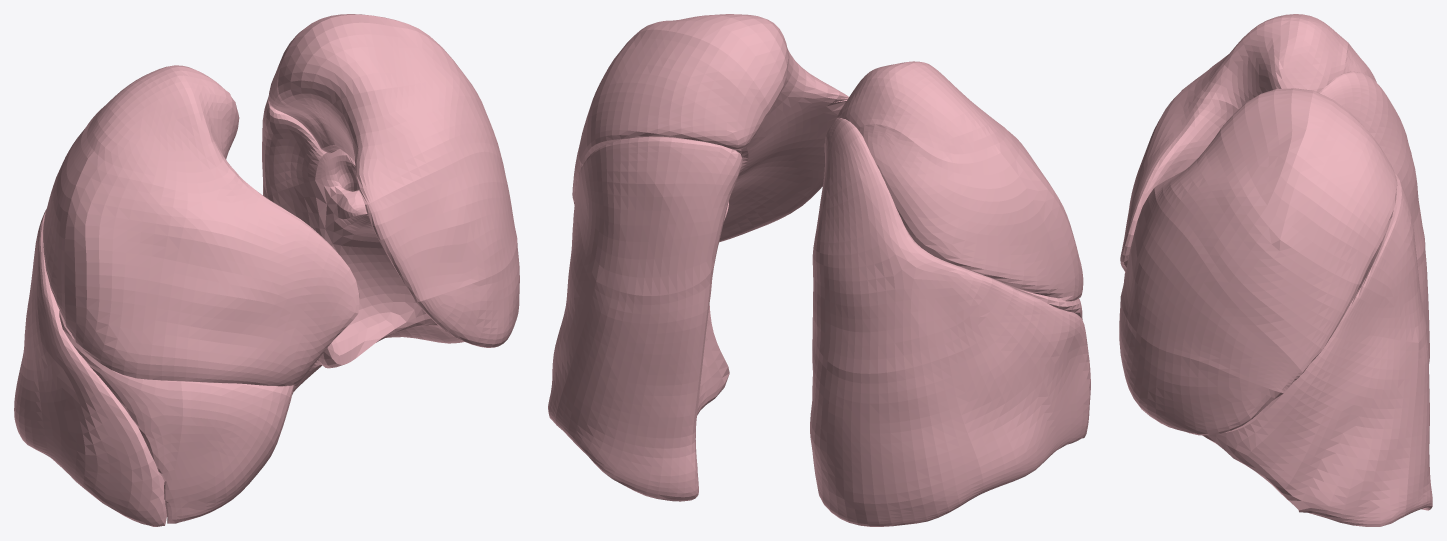
File: lungs.glb
The picture shows the model from 3 angles, left to right: view 1: azimuth 30°, elevation 25°; view 2: azimuth 150°, elevation 25°; view 3: azimuth 270°, elevation 25°; orthographic projection. The views are drawn at different scales.
Visible parts, largest first — view 1: lungs; view 2: lungs; view 3: lungs.
Boxes of the visible parts, left/top/right/bottom form: lungs: left=14, top=14, right=519, bottom=526; lungs: left=548, top=14, right=1090, bottom=526; lungs: left=1119, top=14, right=1432, bottom=526.
Size of the model in its own units: 0.2511 by 0.223 by 0.1526.
